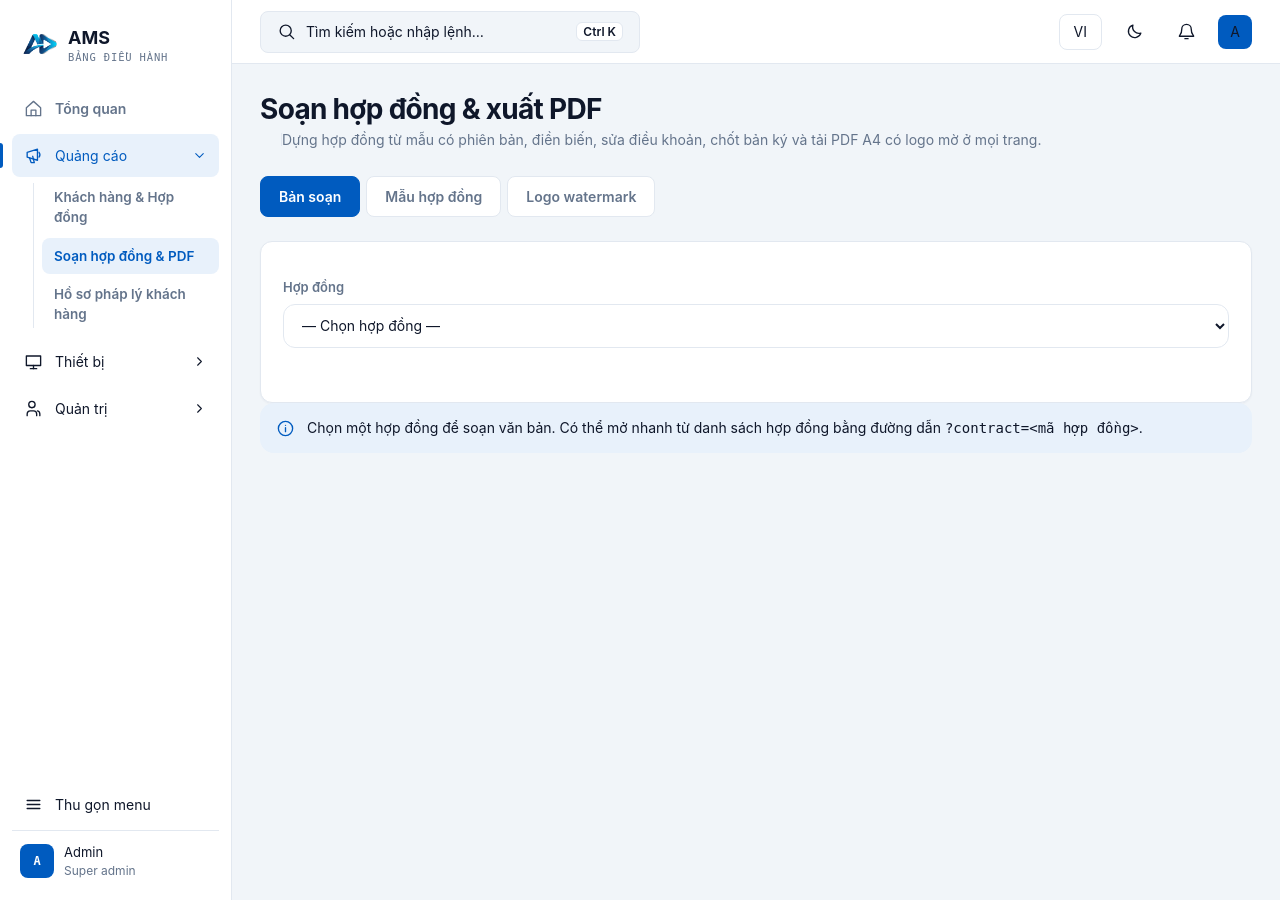
Scenario: Hop dong mau: nhap tu may tinh › Xuat mau ra file: GET /templates/:id/export; khong co admin:write thi khong co nut nhap
This screenshot has width=1280, height=900.
Click the button "Mẫu hợp đồng" at (434, 196), box [366,176,501,217]
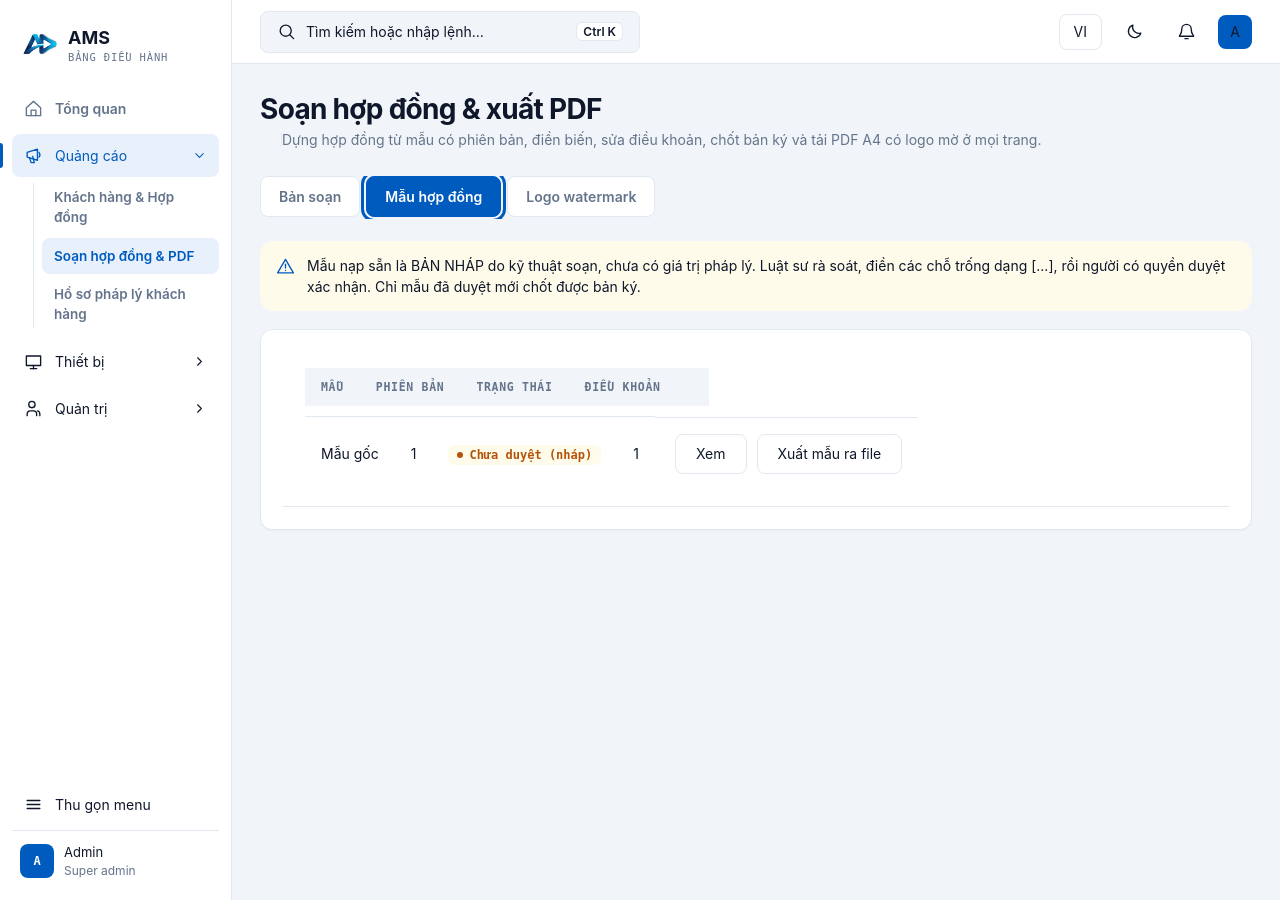
Result: the button "Xuất mẫu ra file" is shown at [756,434,902,474]
